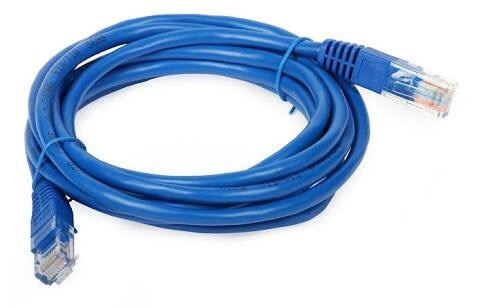Nonrec_Tangler: (1, 16, 459, 238)
